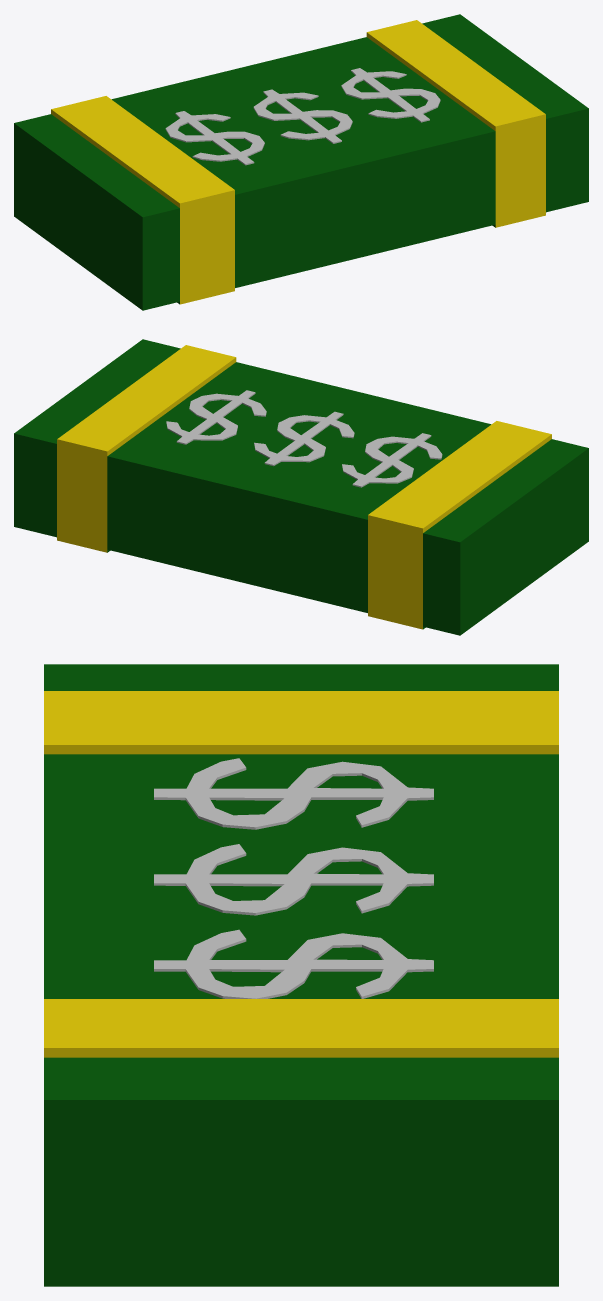
The model's file is Cash ($5).glb.
3 views of the same model, one above another, from view 1: azimuth 30°, elevation 25°; view 2: azimuth 150°, elevation 25°; view 3: azimuth 270°, elevation 25° (orthographic). The views are drawn at different scales.
Visible parts, largest first — view 1: Cash, Text; view 2: Cash, Text; view 3: Cash, Text.
Boxes of the visible parts, left/top/right/bottom form: Cash: left=14, top=14, right=588, bottom=310; Text: left=165, top=68, right=440, bottom=165; Cash: left=14, top=339, right=588, bottom=635; Text: left=166, top=390, right=442, bottom=487; Cash: left=44, top=664, right=558, bottom=1286; Text: left=154, top=758, right=433, bottom=998.
Size of the model in its own units: 0.3048 by 0.0662 by 0.1524.
